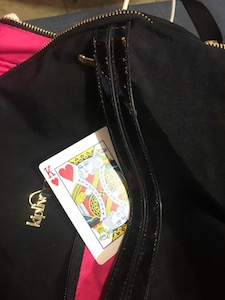KingOfHearts: (36, 122, 140, 266)
